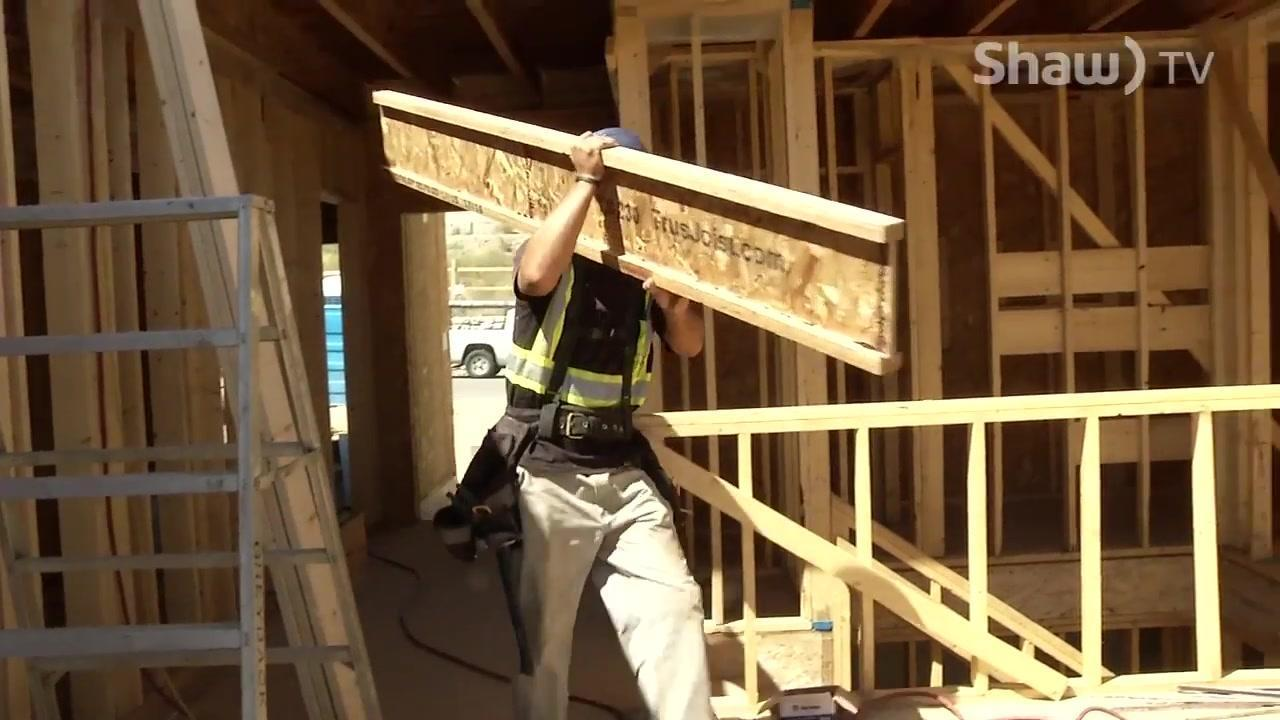vest: (502, 252, 655, 410)
